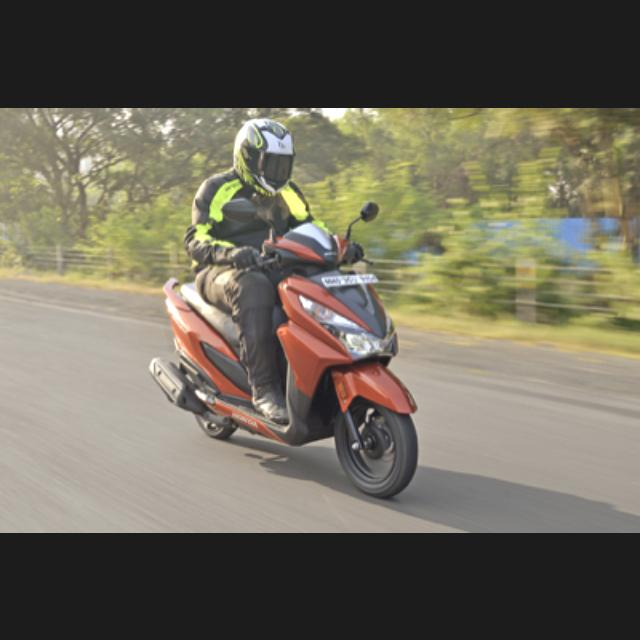With Helmet: (230, 115, 296, 195)
